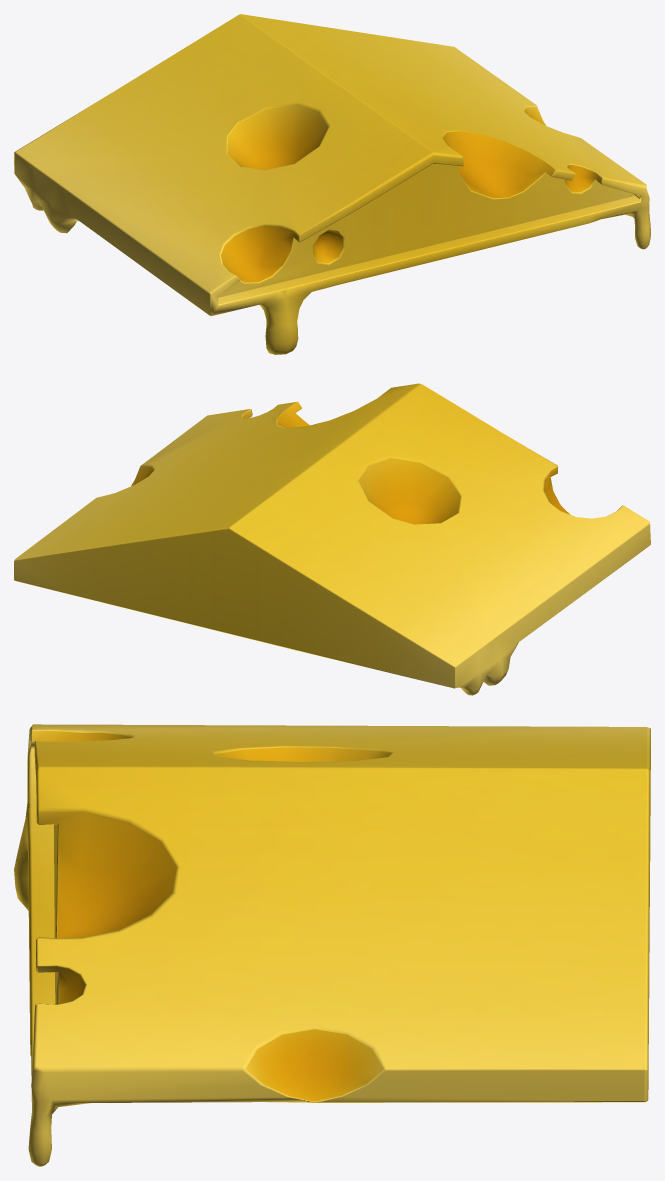
The model's file is mod_sc_roma_topcheese_001.fbx.
3 views of the same model, one above another, from view 1: azimuth 30°, elevation 25°; view 2: azimuth 150°, elevation 25°; view 3: azimuth 270°, elevation 25° (orthographic). The views are drawn at different scales.
Parts seen in each view (by area): view 1: mod_sc_roma_topcheese_001; view 2: mod_sc_roma_topcheese_001; view 3: mod_sc_roma_topcheese_001.
Boxes of the visible parts, <box> form: mod_sc_roma_topcheese_001: <box>14,14,650,354</box>; mod_sc_roma_topcheese_001: <box>14,383,650,695</box>; mod_sc_roma_topcheese_001: <box>14,724,650,1166</box>.
Size of what is drawn, in the model's own units: 2461 by 867 by 1905.
Materials: 1 (1 with a texture image).
